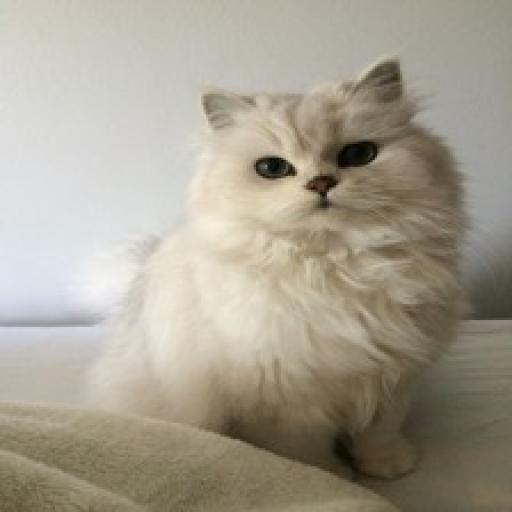cat: (37, 50, 480, 496)
